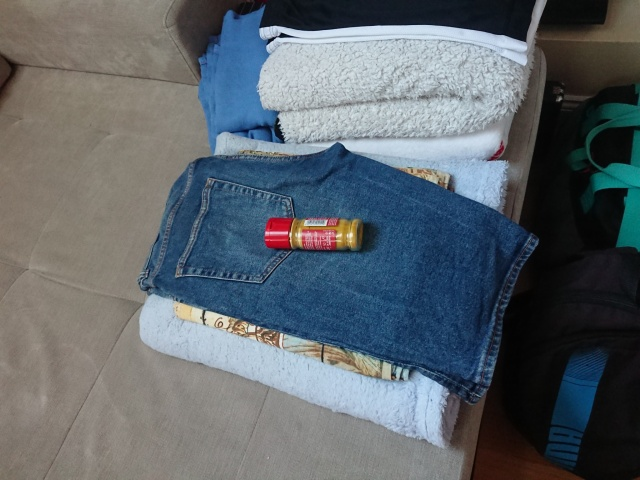Kotanyi Curry Spices Mix 70g: (262, 215, 366, 254)
